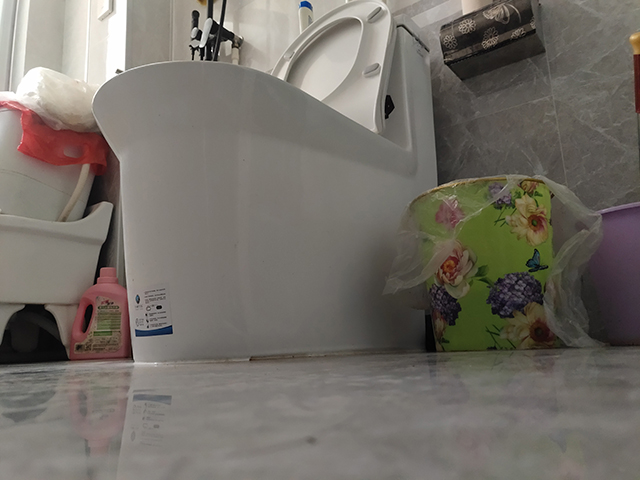closestool: (88, 1, 440, 365)
trashcan: (405, 171, 558, 353)
